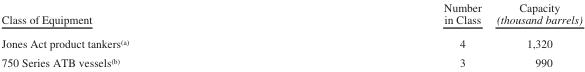table: (0, 0, 581, 68)
table column: (0, 0, 285, 68), (285, 0, 488, 68), (488, 0, 581, 68)
table column header: (0, 0, 581, 30)
table row: (0, 0, 581, 30), (0, 30, 581, 52), (0, 52, 581, 68)
